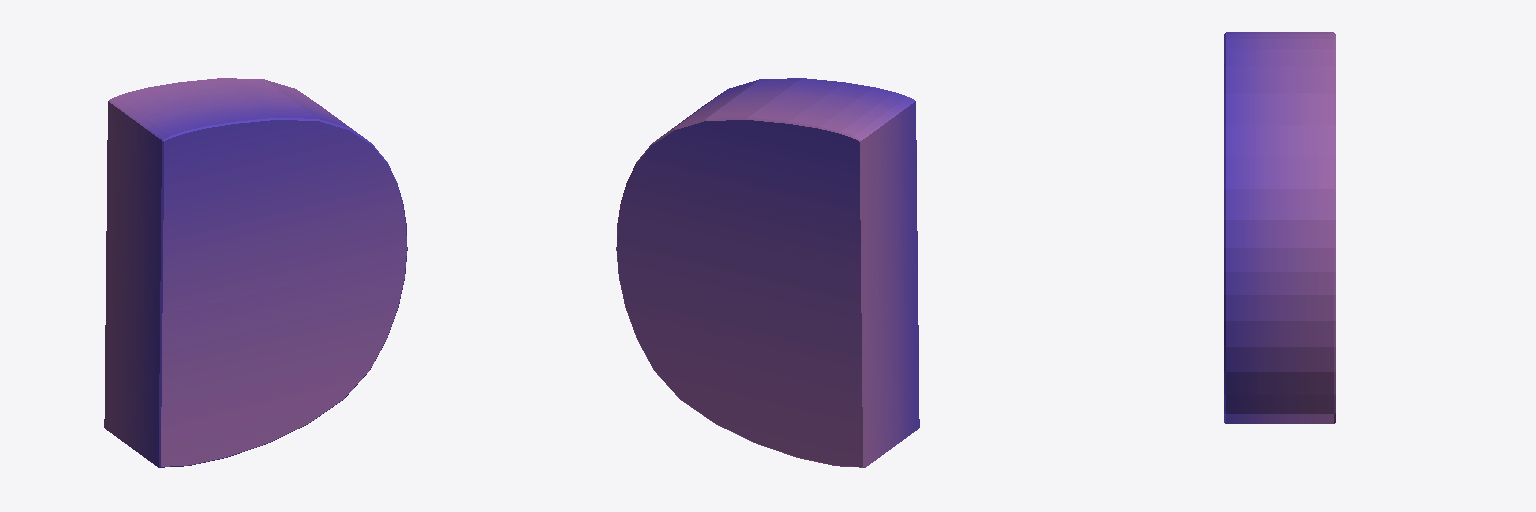
3 views of the same model, side by side, from view 1: azimuth 30°, elevation 25°; view 2: azimuth 150°, elevation 25°; view 3: azimuth 270°, elevation 25° (orthographic).
Parts seen in each view (by area): view 1: polySurface6; view 2: polySurface6; view 3: polySurface6.
Part boxes in pixels (bbox=[...]): polySurface6: bbox=[104, 78, 407, 467]; polySurface6: bbox=[616, 78, 919, 467]; polySurface6: bbox=[1224, 32, 1335, 423].
Size of the model in its own units: 1.69 by 2.19 by 0.6578.
1 materials, 1 textured.